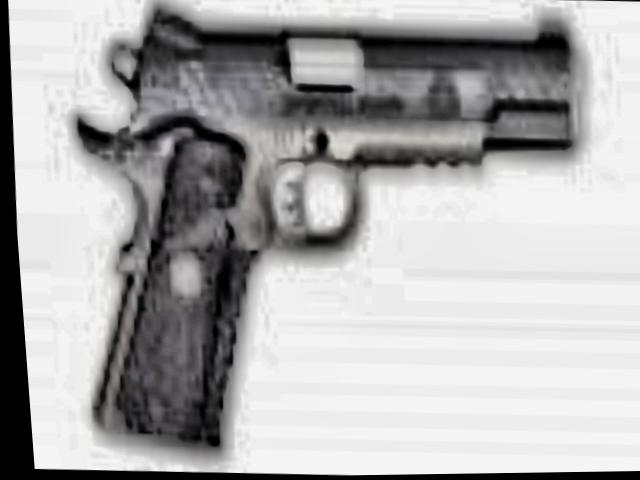pistol: (44, 0, 603, 463)
